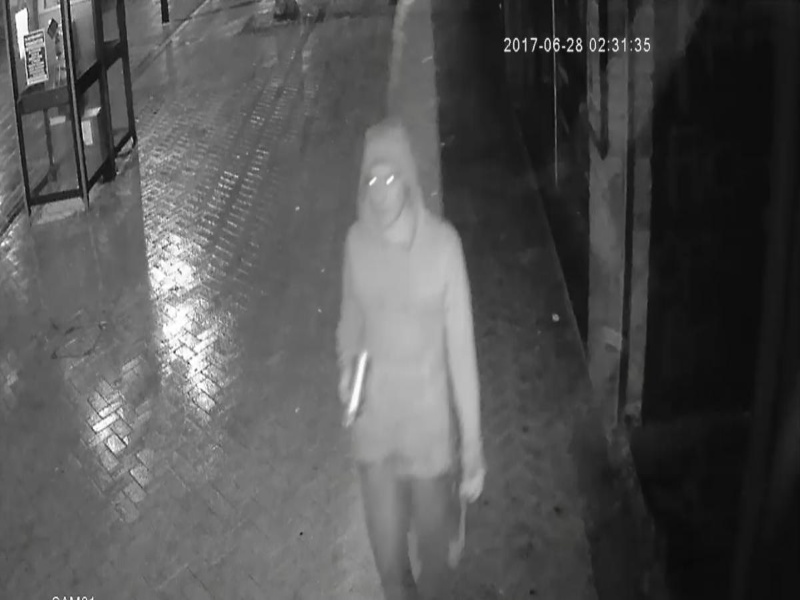person: (326, 113, 495, 600)
